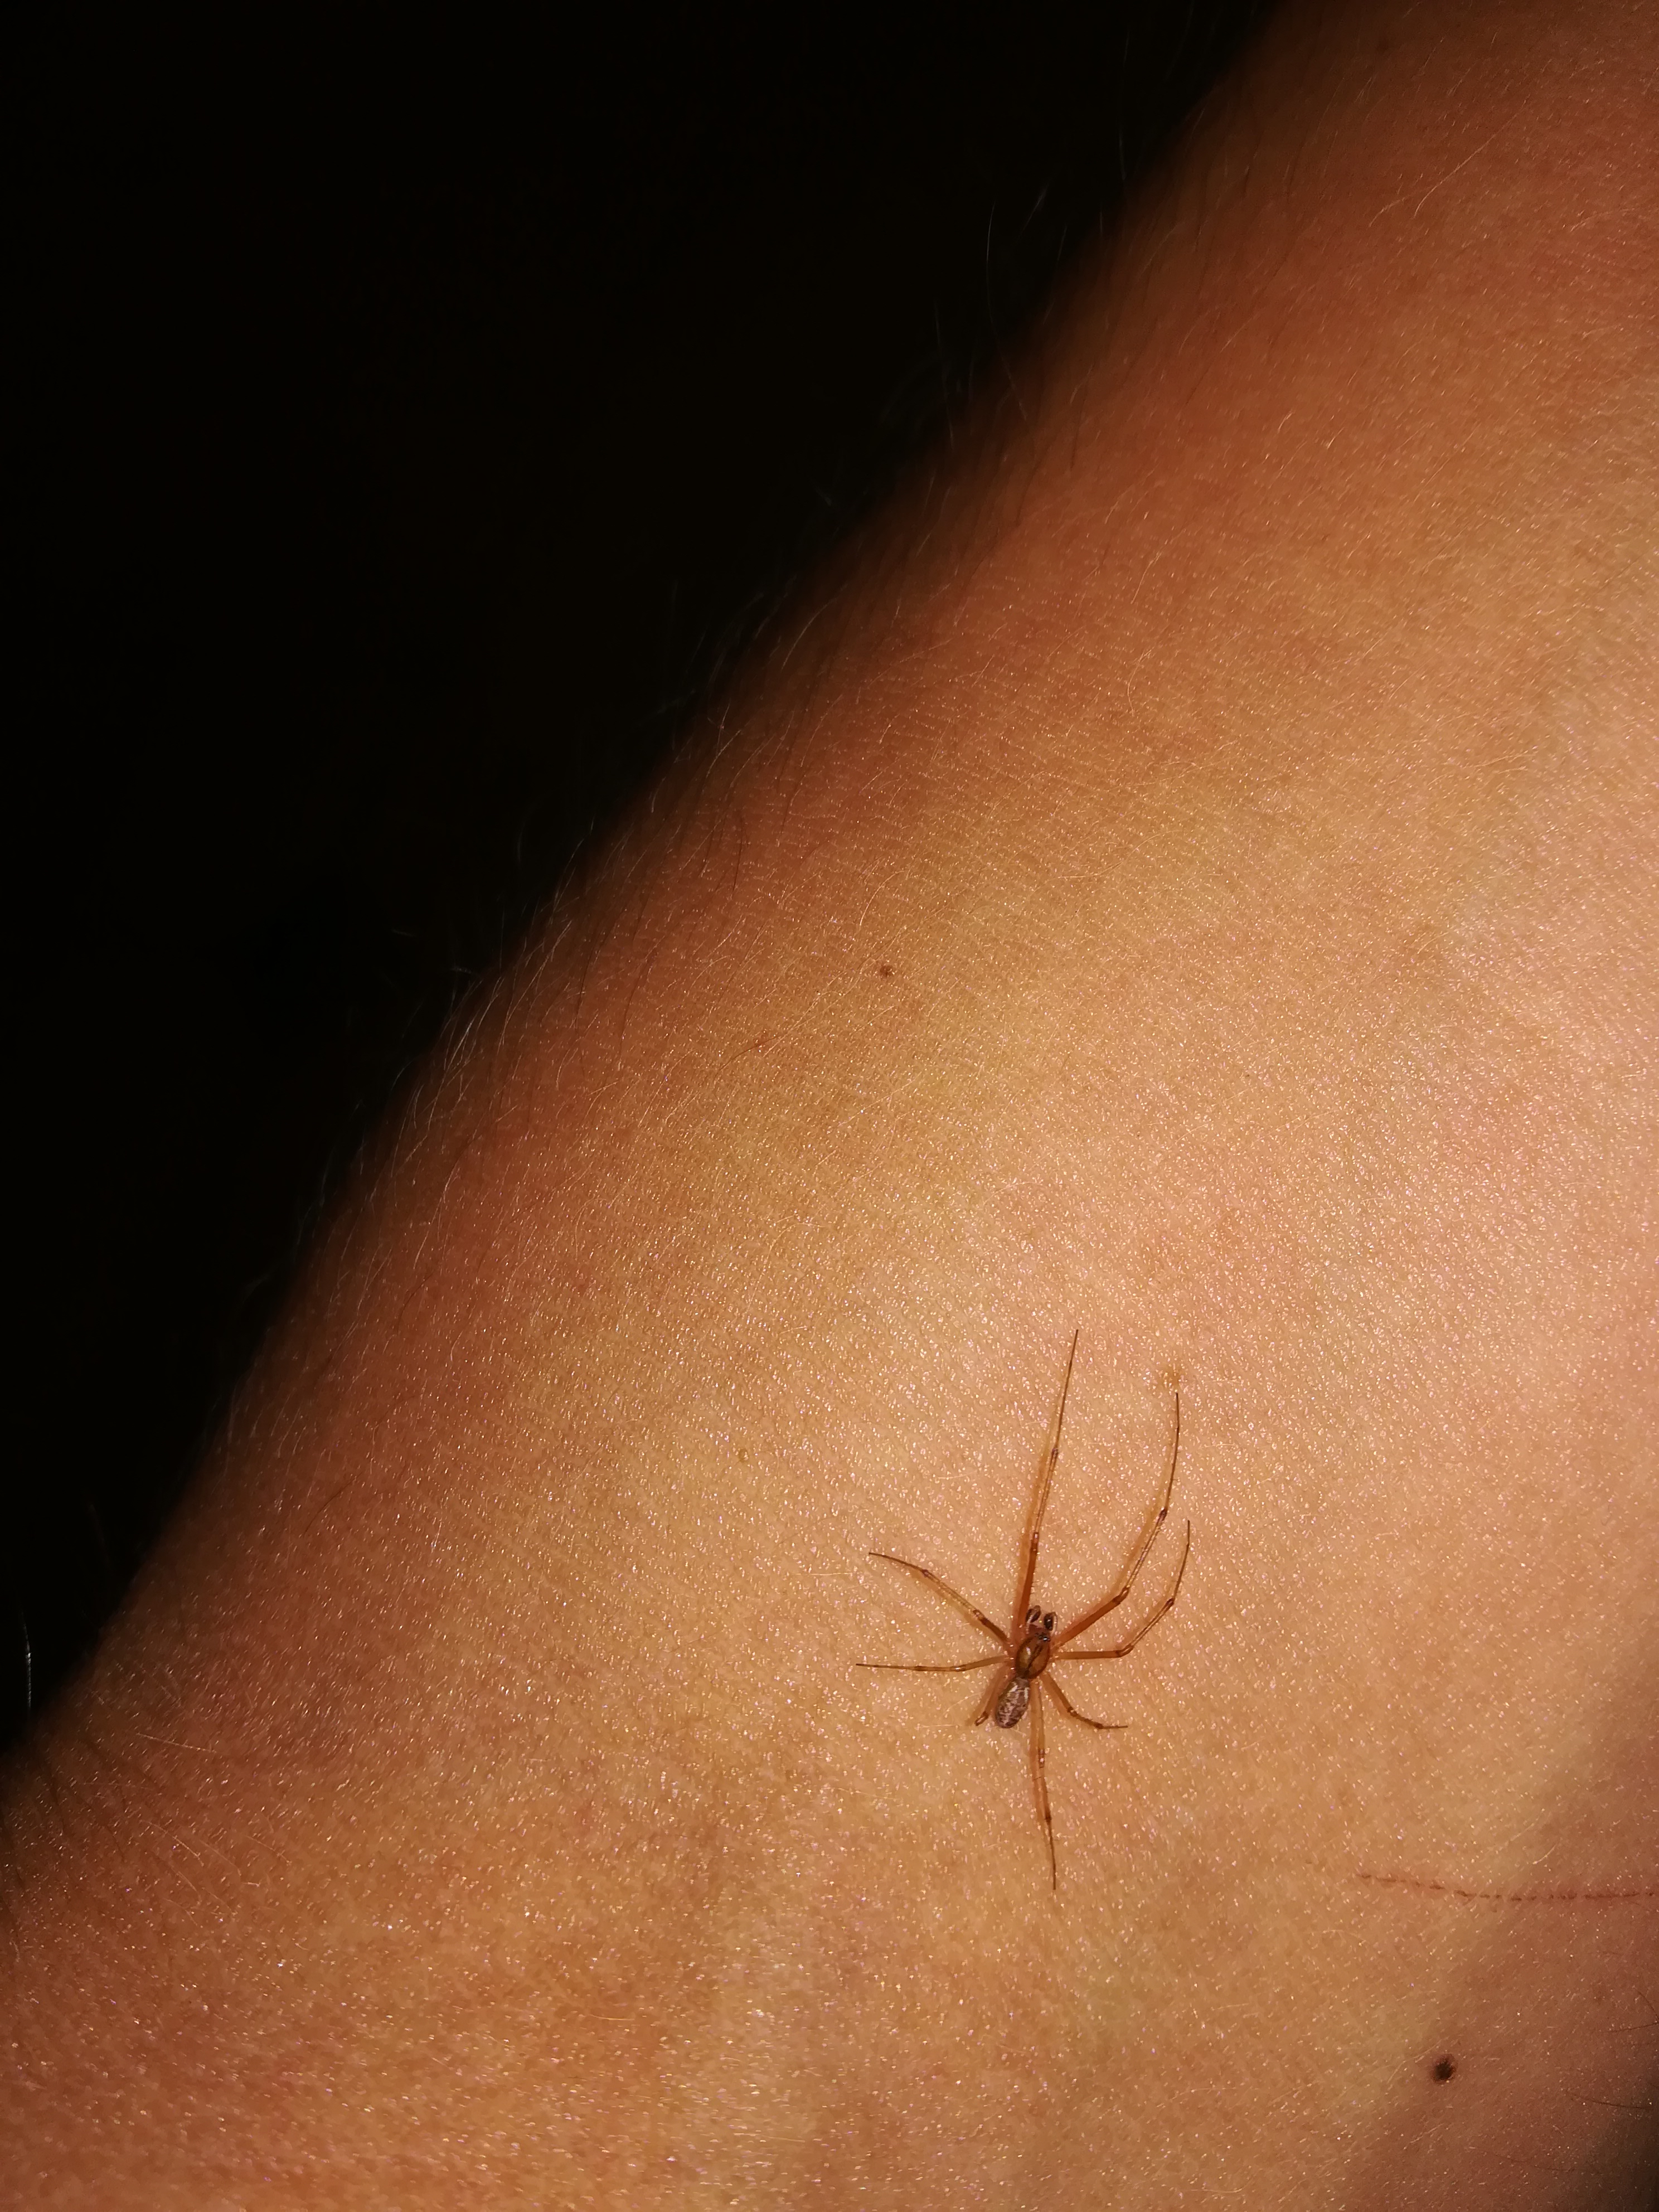spider: (814, 1282, 1251, 1898)
